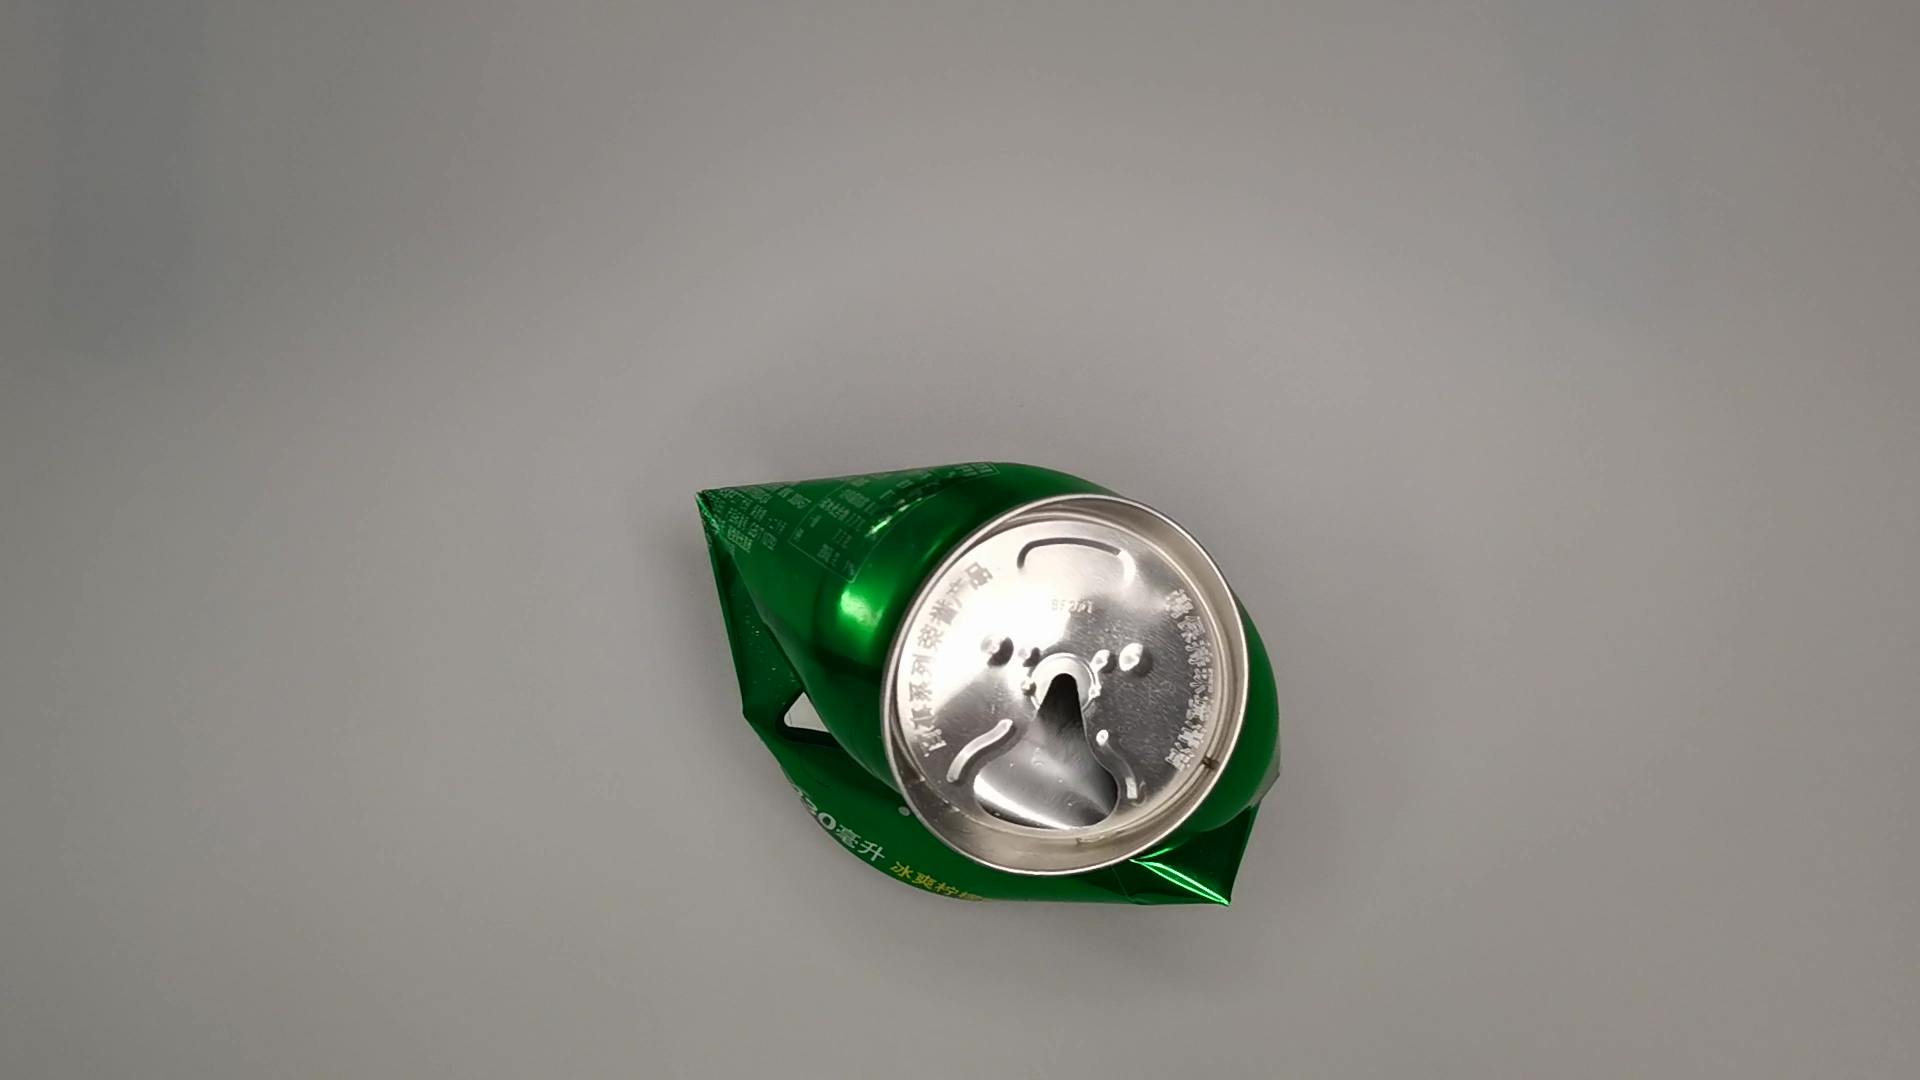can: (684, 450, 1304, 934)
